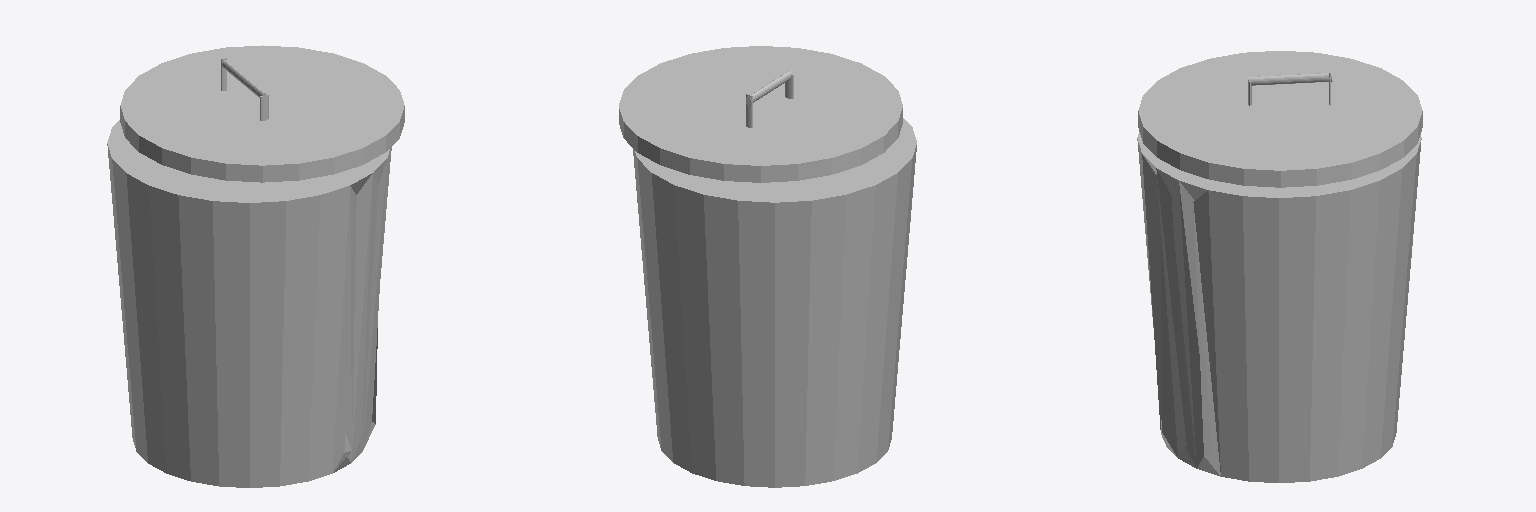
The model's file is trash-can.obj.
3 renders of one model, left to right at view 1: azimuth 30°, elevation 25°; view 2: azimuth 150°, elevation 25°; view 3: azimuth 270°, elevation 25°, orthographic.
Visible parts, largest first — view 1: Cylinder, Cylinder3; view 2: Cylinder, Cylinder3; view 3: Cylinder, Cylinder3, Cylinder4.
Boxes of the visible parts, box(x1,y1,x2,y2) form: Cylinder: box(107, 120, 391, 487); Cylinder3: box(120, 45, 404, 182); Cylinder: box(633, 118, 916, 487); Cylinder3: box(619, 46, 902, 182); Cylinder: box(1137, 132, 1421, 482); Cylinder3: box(1138, 51, 1422, 187); Cylinder4: box(1249, 73, 1332, 85).
Size of the model in its own units: 1.06 by 1.4 by 1.